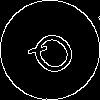Q: (25, 25, 87, 87)
